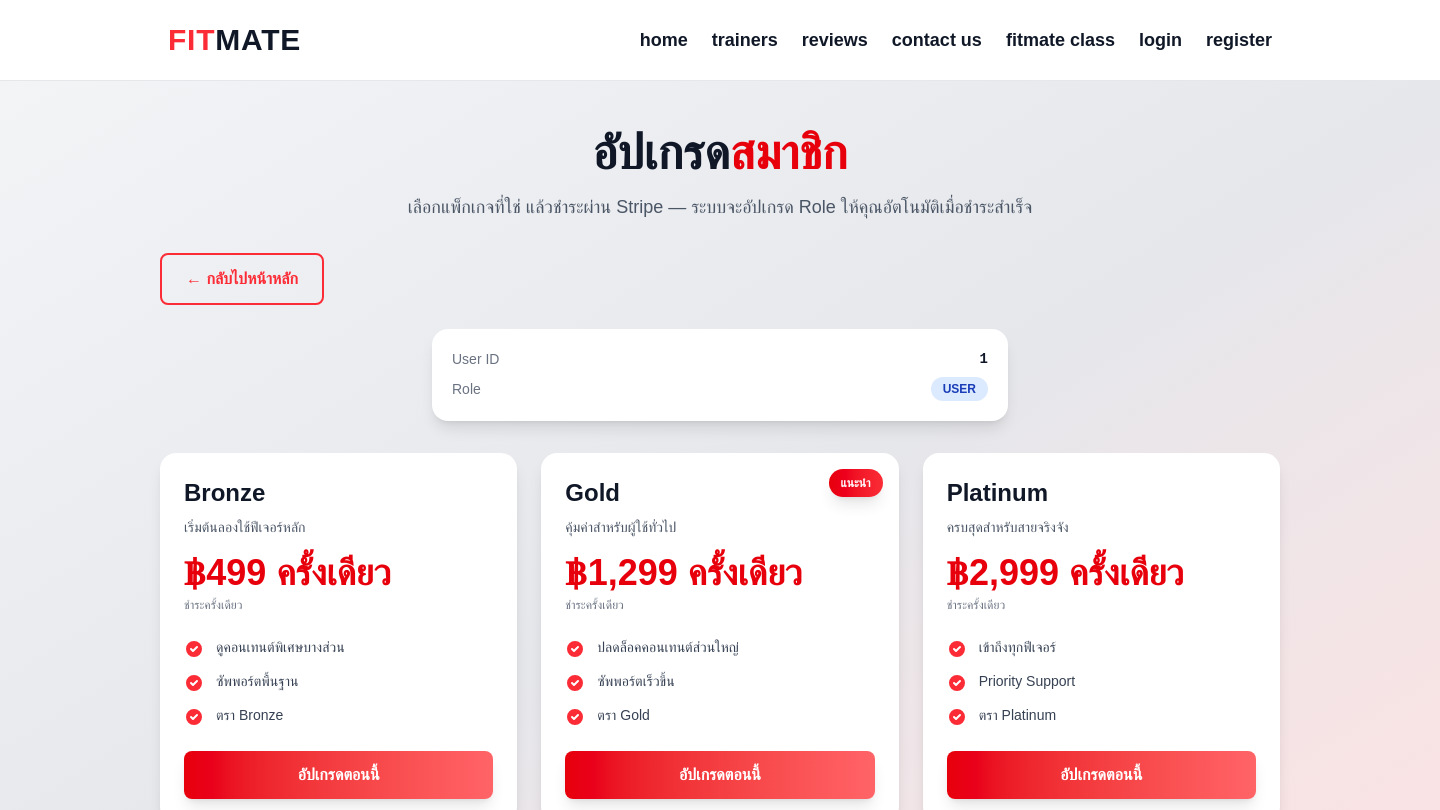
MembershipPage › handles checkout errors
Check: the text "User ID" is shown, box x1=452 y1=349 x2=500 y2=369
Step 1. Click the button "อัปเกรดตอนนี้" below "ตรา Bronze" → point(339, 775), box x1=184 y1=751 x2=493 y2=799
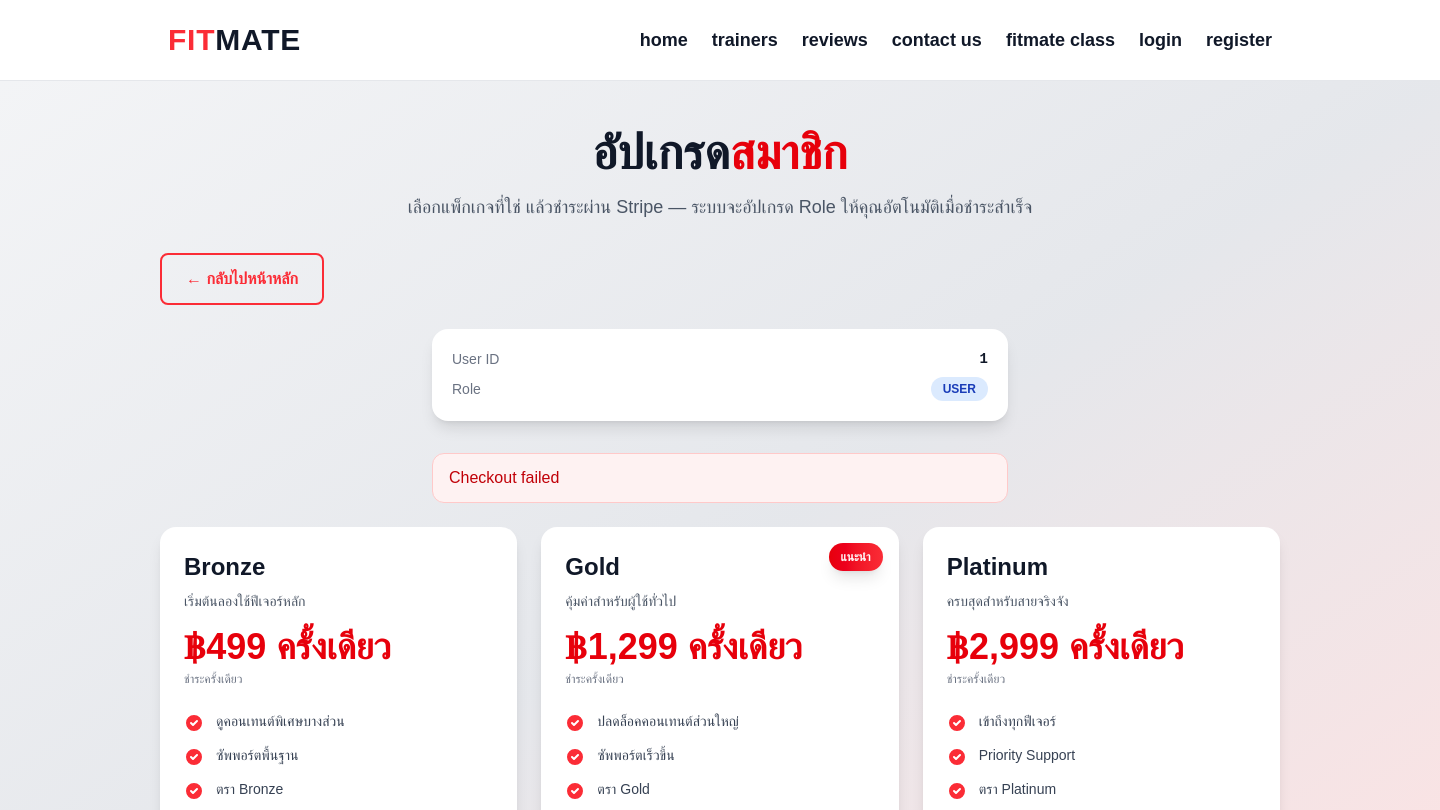
Check: the text "Checkout failed" is shown, box x1=432 y1=453 x2=1008 y2=503
